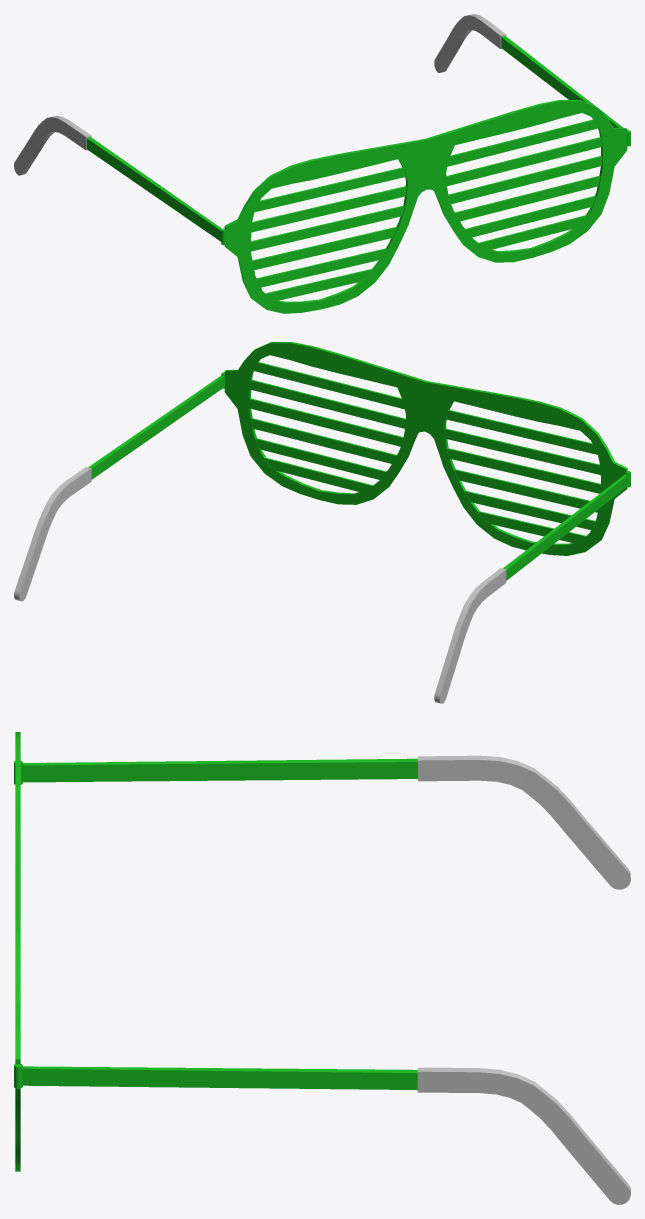
Rendered from glasses22.001.obj.
The picture shows the model from 3 angles, top to bottom: view 1: azimuth 30°, elevation 25°; view 2: azimuth 150°, elevation 25°; view 3: azimuth 270°, elevation 25°; orthographic projection. The views are drawn at different scales.
Visible parts, largest first — view 1: glasses22.001_glasses22.001_Base, glasses22.001_glasses22.001_black; view 2: glasses22.001_glasses22.001_Base, glasses22.001_glasses22.001_black; view 3: glasses22.001_glasses22.001_Base, glasses22.001_glasses22.001_black.
Part boxes in pixels (bbox=[...]): glasses22.001_glasses22.001_Base: bbox=[86, 36, 630, 313]; glasses22.001_glasses22.001_black: bbox=[14, 14, 506, 175]; glasses22.001_glasses22.001_Base: bbox=[88, 342, 630, 580]; glasses22.001_glasses22.001_black: bbox=[14, 467, 506, 703]; glasses22.001_glasses22.001_Base: bbox=[14, 732, 417, 1171]; glasses22.001_glasses22.001_black: bbox=[417, 755, 630, 1204].
Bounding box in the file's own units: 1.98 × 0.6714 × 1.62.
